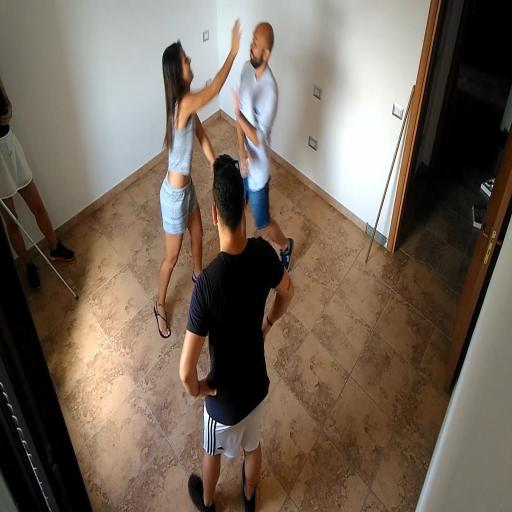violencia: (139, 12, 301, 338)
